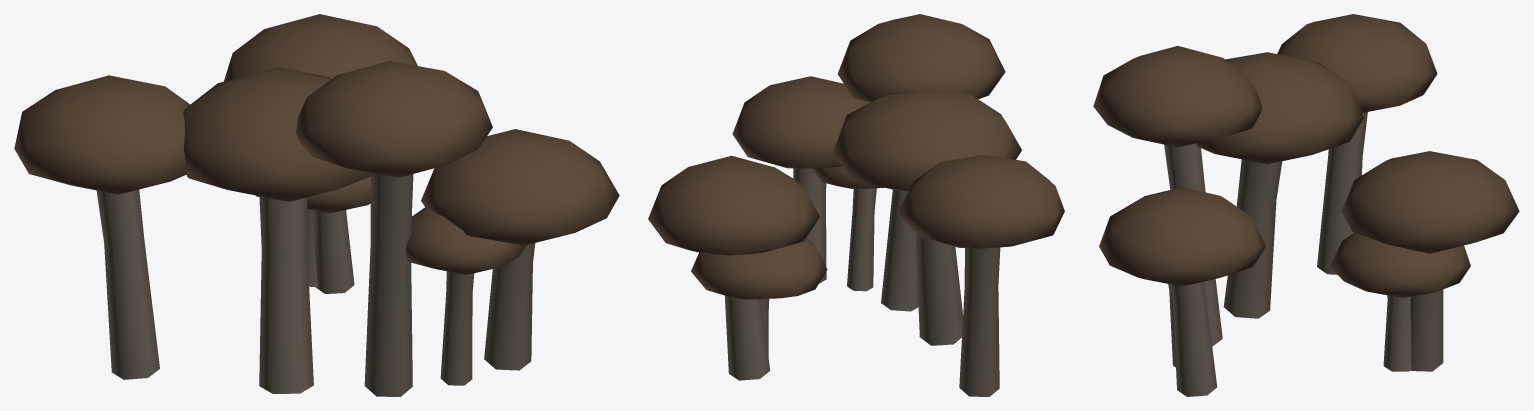
Rendered from brown_mushrooms_1_burnt2.glb.
The picture shows the model from 3 angles, left to right: view 1: azimuth 30°, elevation 25°; view 2: azimuth 150°, elevation 25°; view 3: azimuth 270°, elevation 25°; orthographic projection. The views are drawn at different scales.
Parts seen in each view (by area): view 1: brown_mushrooms_1_burnt2; view 2: brown_mushrooms_1_burnt2; view 3: brown_mushrooms_1_burnt2.
Boxes of the visible parts, bbox=[...] form: brown_mushrooms_1_burnt2: bbox=[14, 14, 619, 396]; brown_mushrooms_1_burnt2: bbox=[648, 14, 1064, 396]; brown_mushrooms_1_burnt2: bbox=[1093, 14, 1519, 396].
Size of the model in its own units: 0.2834 by 0.1884 by 0.2594.
